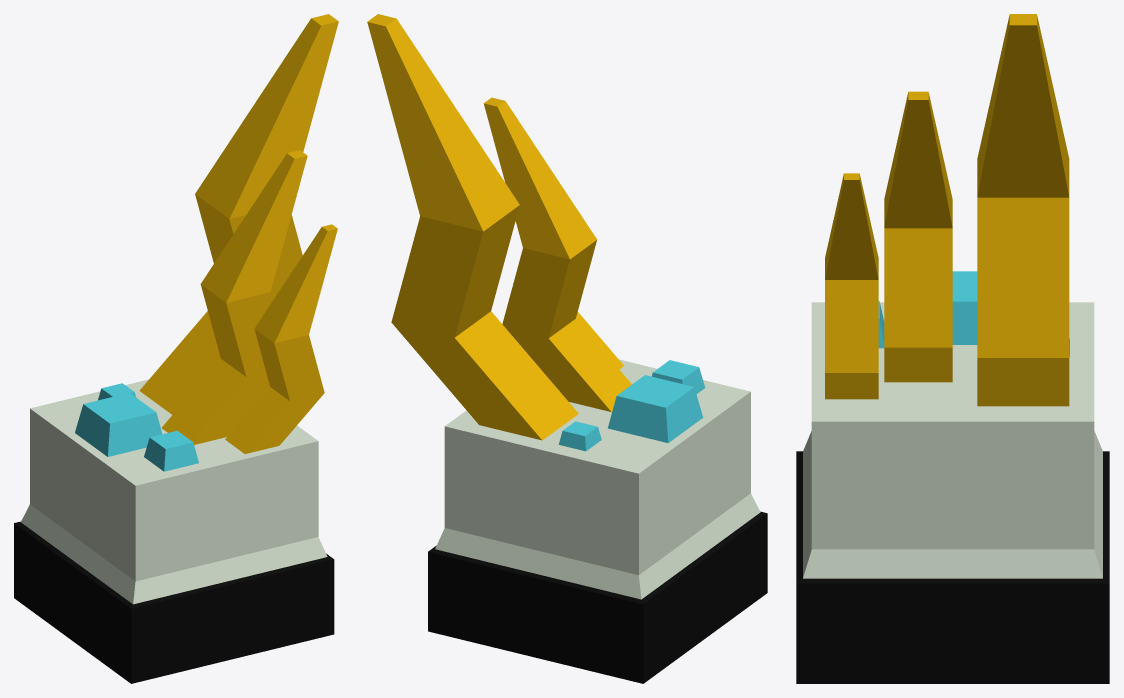
File: SM_ZeusLightningAbstractSculpture_01.fbx
3 views of the same model, side by side, from view 1: azimuth 30°, elevation 25°; view 2: azimuth 150°, elevation 25°; view 3: azimuth 270°, elevation 25° (orthographic). The views are drawn at different scales.
Parts seen in each view (by area): view 1: SM_AbstractZuesSculpture; view 2: SM_AbstractZuesSculpture; view 3: SM_AbstractZuesSculpture.
Part boxes in pixels (x1,y1,x2,y2): SM_AbstractZuesSculpture: (14,14,338,683); SM_AbstractZuesSculpture: (367,14,767,683); SM_AbstractZuesSculpture: (796,14,1109,683).
Size of the model in its own units: 222 by 314 by 558.
